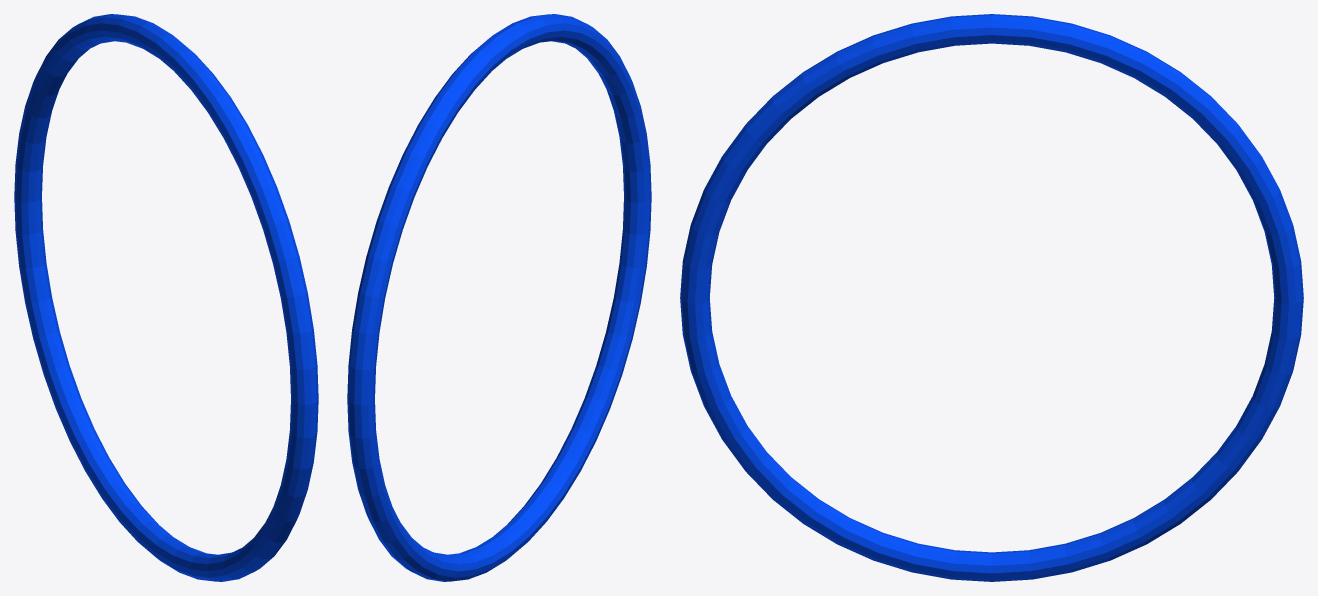
The model's file is ring_personal.gltf.
The picture shows the model from 3 angles, left to right: view 1: azimuth 30°, elevation 25°; view 2: azimuth 150°, elevation 25°; view 3: azimuth 270°, elevation 25°; orthographic projection. The views are drawn at different scales.
Parts seen in each view (by area): view 1: Torus; view 2: Torus; view 3: Torus.
Boxes of the visible parts, x1=… form: Torus: x1=14, y1=14, x2=318, y2=581; Torus: x1=347, y1=14, x2=651, y2=581; Torus: x1=680, y1=14, x2=1303, y2=581.
Size of the model in its own units: 0.1 by 2.1 by 2.1.
